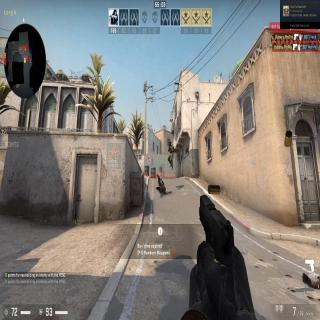CT-Body: (167, 140, 175, 170)
CT-Head: (168, 141, 171, 146)
